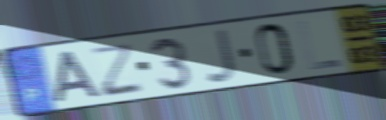0: (253, 21, 297, 77)
3: (147, 34, 194, 92)
A: (53, 48, 105, 105)
J: (203, 27, 239, 85)
L: (296, 19, 344, 72)
Z: (92, 40, 144, 99)
